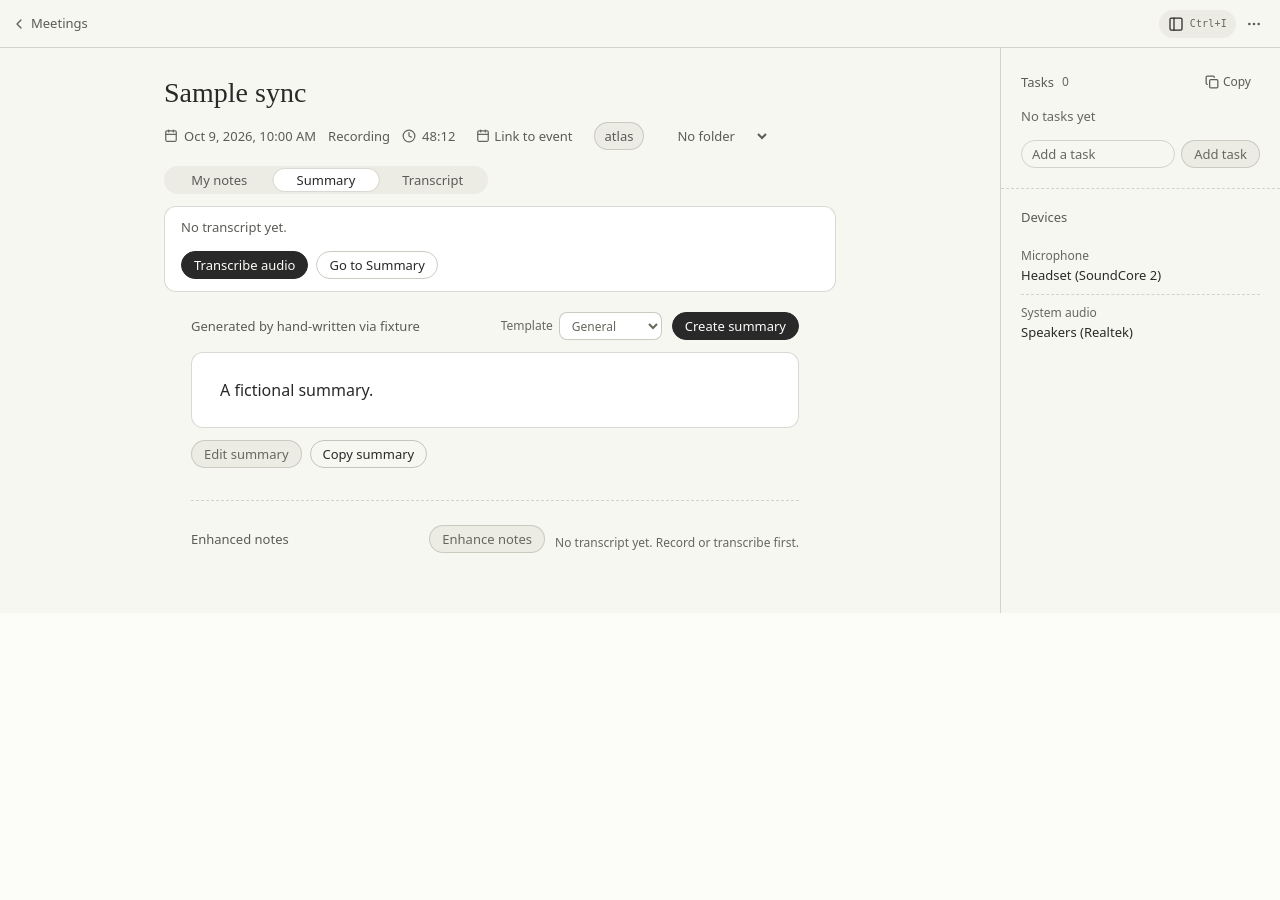
Test: opens transcript history from the meeting menu
The image size is (1280, 900).
Click the heading named "More meeting actions" at coordinates (1254, 24), box [1246,16,1262,32]
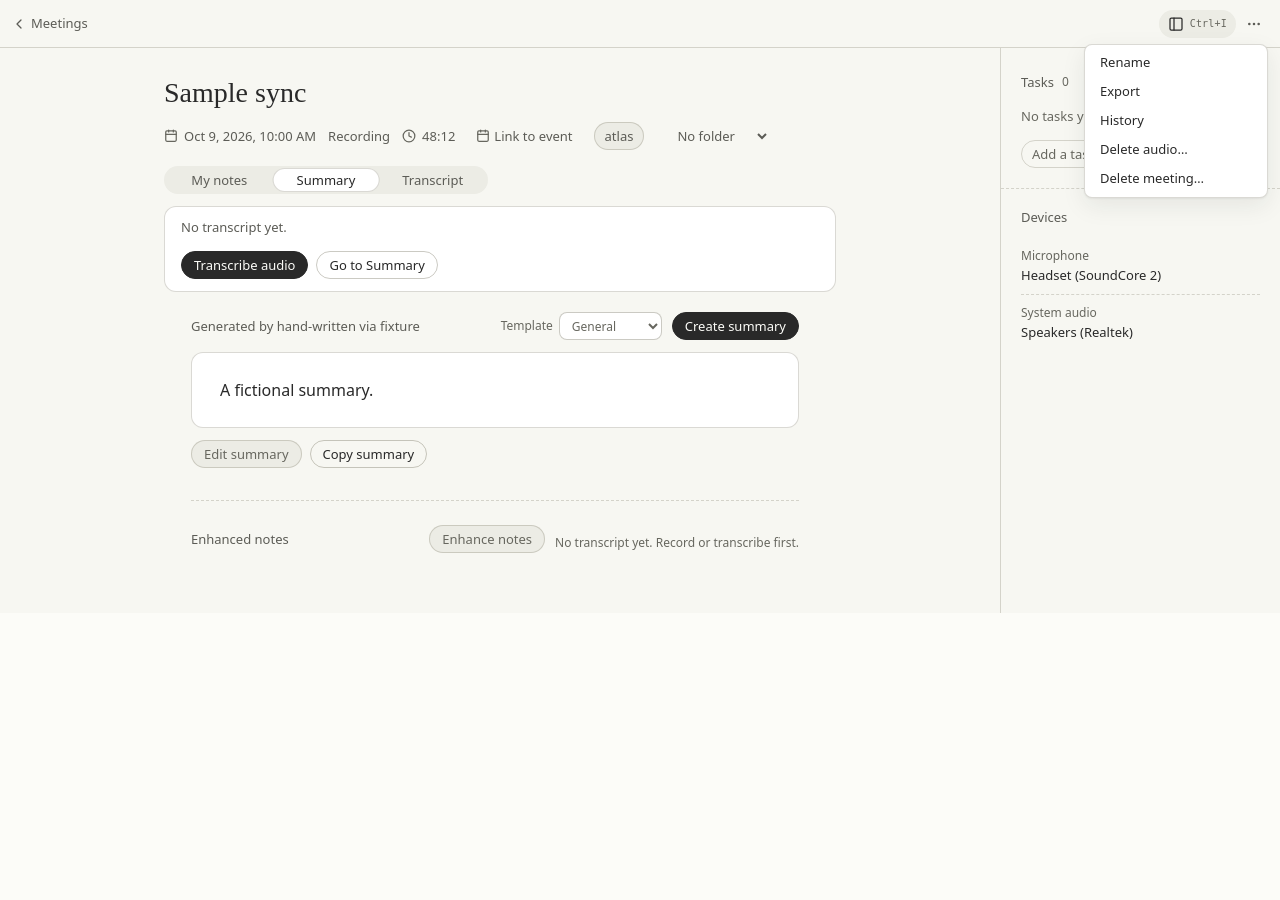
Click the button "History" at coordinates (1176, 120), box [1089,106,1263,134]
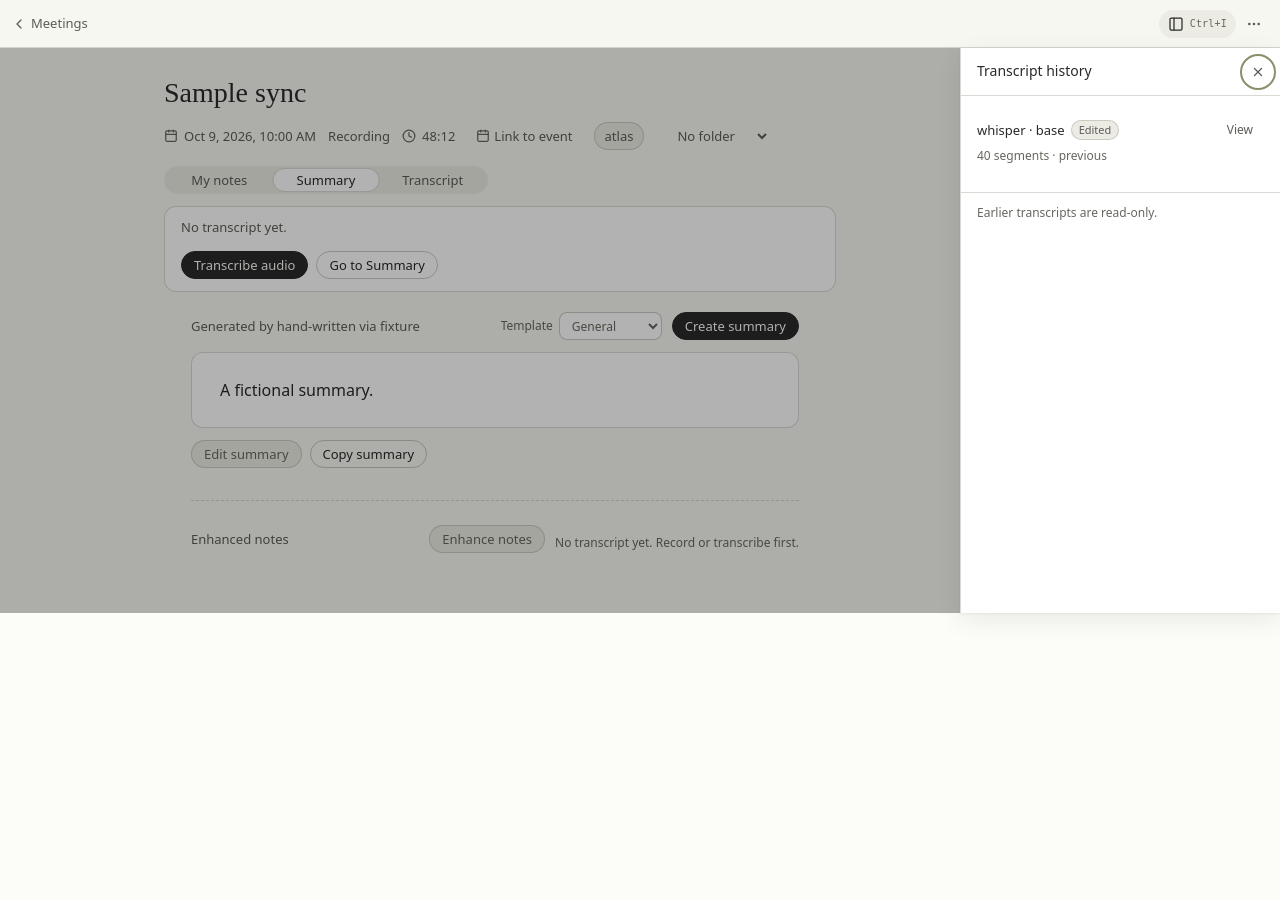
Expected: the text "whisper · base" is shown, [977,122,1065,138]
Expected: the text "Earlier transcripts are read-only." is shown, [961,192,1279,233]
